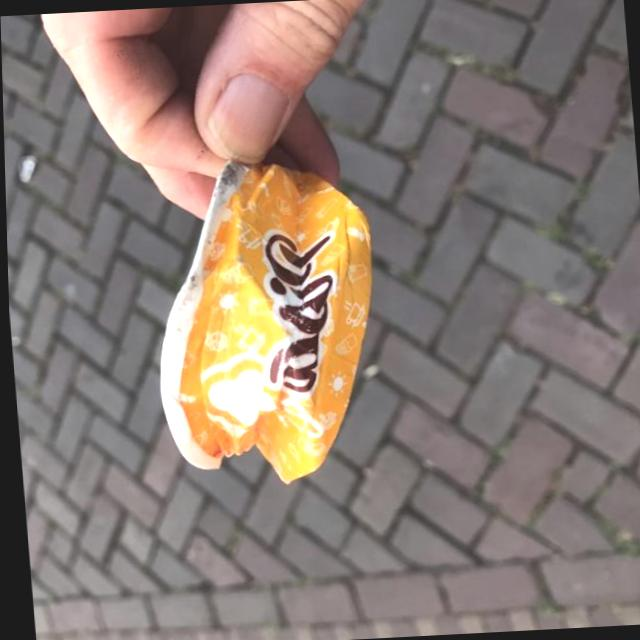Paper: (135, 144, 393, 494)
